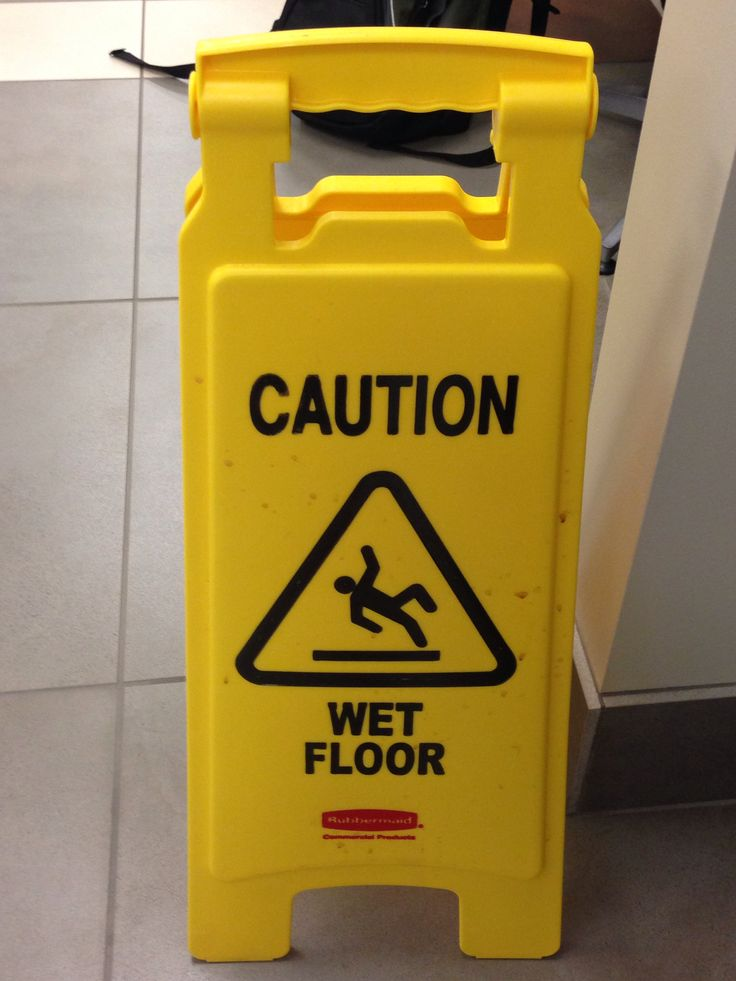wet caution sign: (178, 38, 578, 963)
